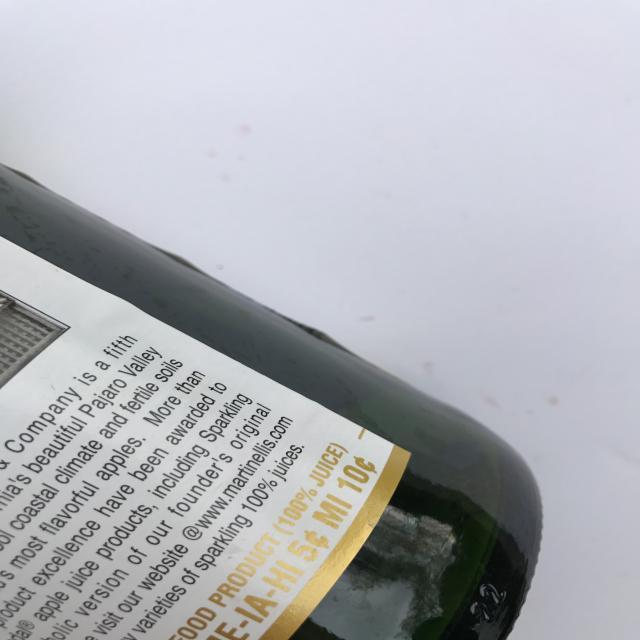glass: (0, 161, 548, 640)
